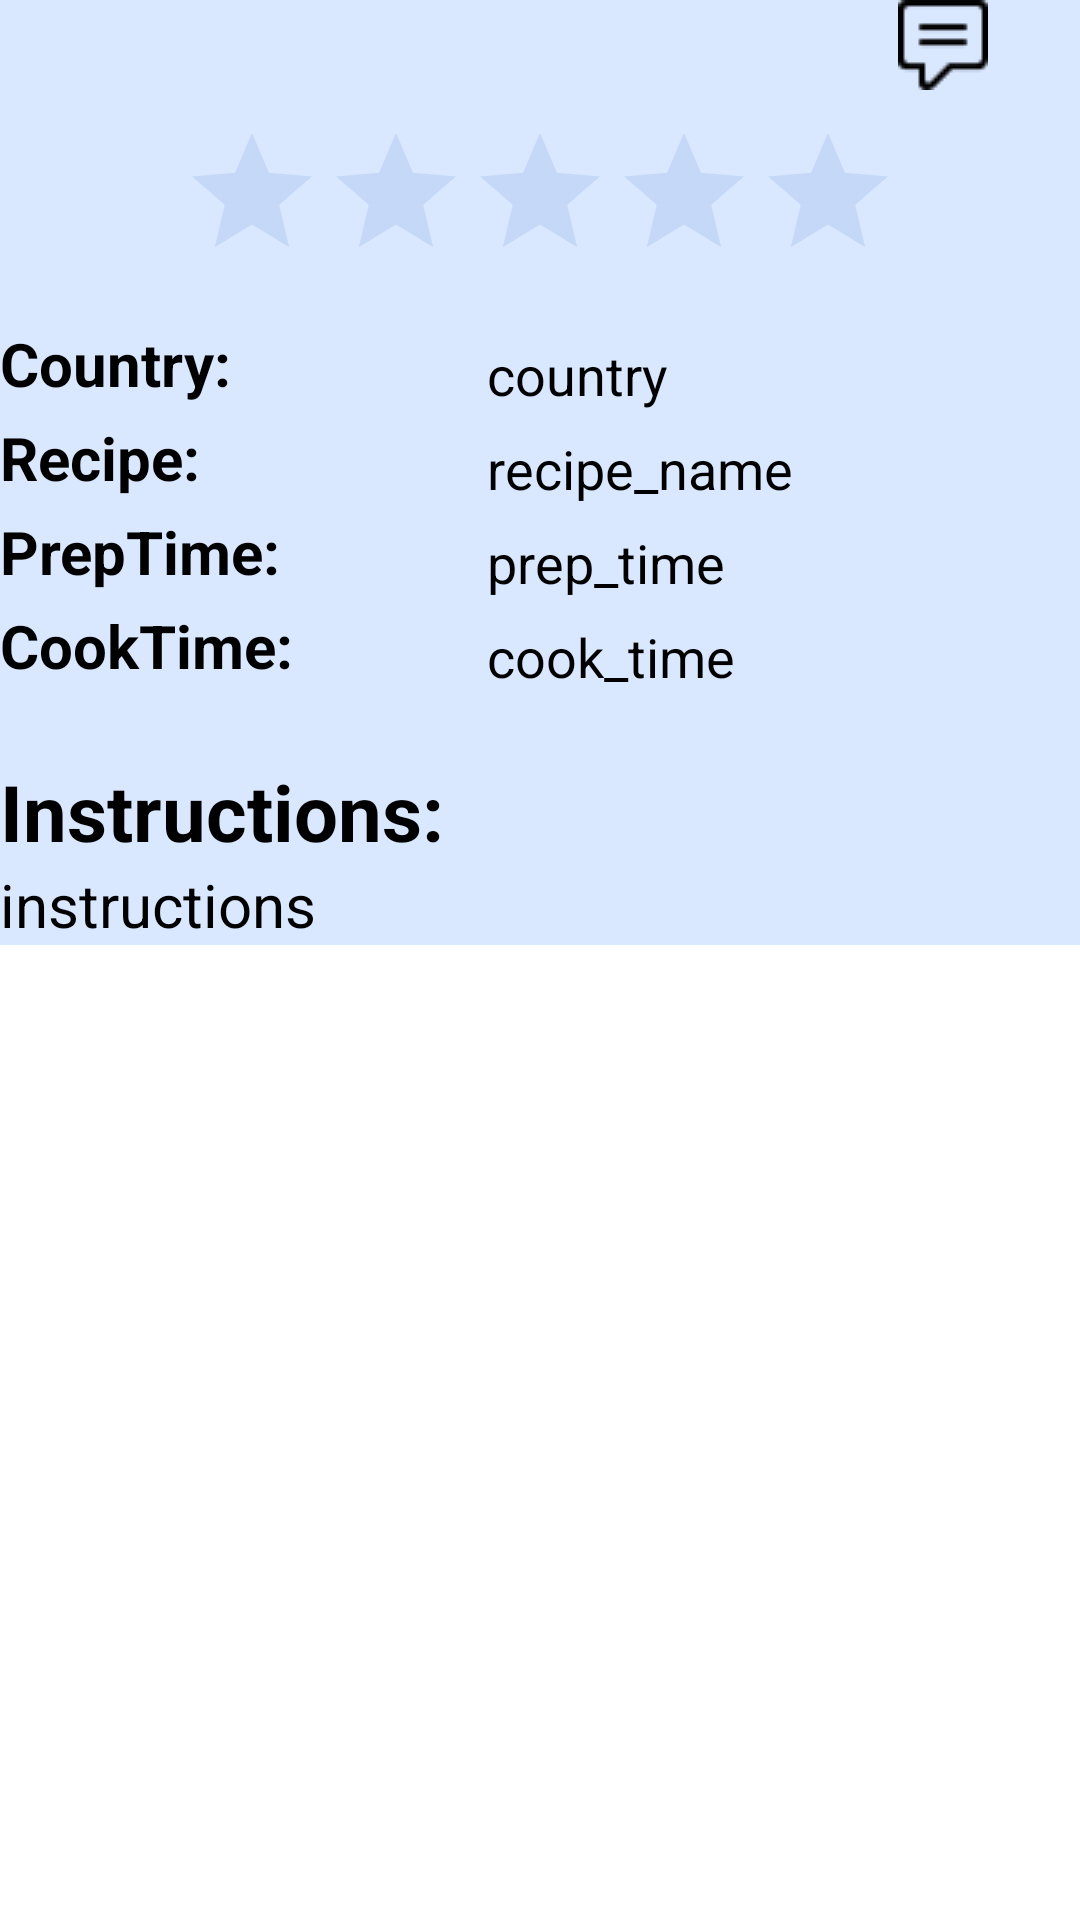

Screen size 1080px x 1920px. Icon name, then its box in pixels as {"x1": x1, "y1": y1, "x2": x2, "y2": y2}:
comment: {"x1": 898, "y1": 0, "x2": 988, "y2": 90}
